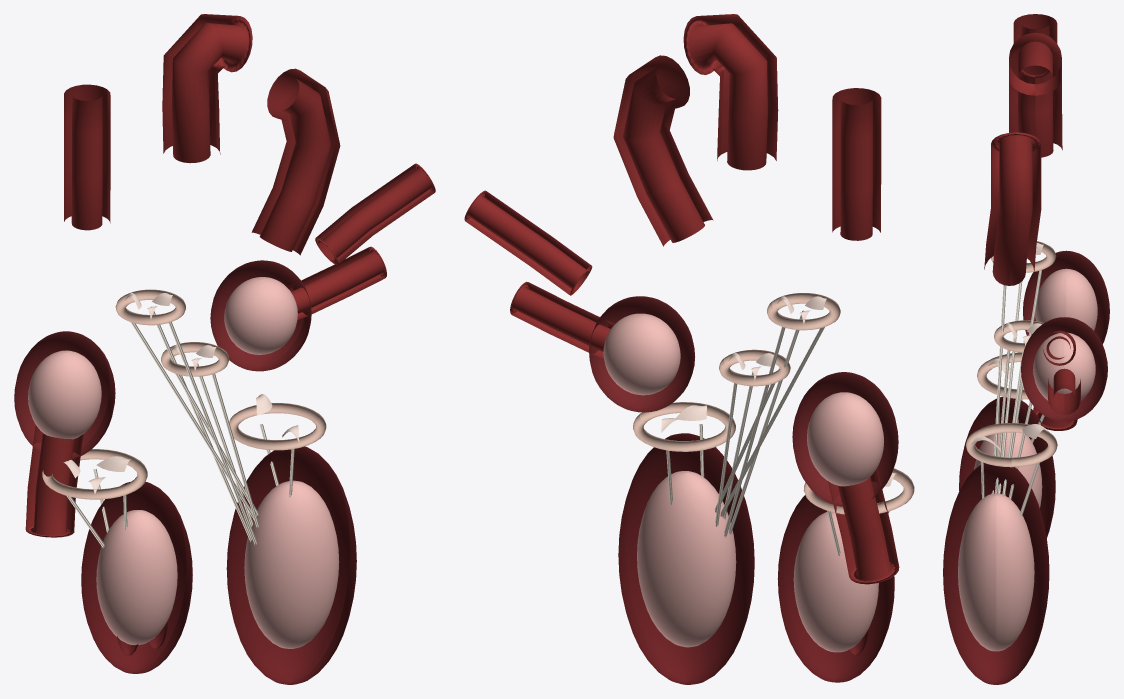
File: heart_segmented_mitral_leaky.glb
The picture shows the model from 3 angles, left to right: view 1: azimuth 30°, elevation 25°; view 2: azimuth 150°, elevation 25°; view 3: azimuth 270°, elevation 25°; orthographic projection. The views are drawn at different scales.
Visible parts, largest first — view 1: WallLV, WallRV, PulmonaryTrunk, WallRA, Aorta, WallLA, SVC, PulmonaryVeinL, IVC, PulmonaryVeinR, AnnulusMitral, AnnulusTricuspid (+6 smaller); view 2: WallLV, WallRV, PulmonaryTrunk, WallRA, Aorta, WallLA, SVC, PulmonaryVeinL, IVC, PulmonaryVeinR, AnnulusMitral, AnnulusAortic (+5 smaller); view 3: WallLV, PulmonaryTrunk, WallLA, Aorta, WallRA, WallRV, AnnulusMitral, PulmonaryVeinR, SVC, AnnulusTricuspid, AnnulusPulmonary, ChordaeAortic2 (+7 smaller).
Part boxes in pixels (x1,y1,x2,y2): WallLV: (226, 446, 356, 684); WallRV: (81, 482, 192, 673); PulmonaryTrunk: (251, 68, 340, 255); WallRA: (14, 331, 115, 458); Aorta: (162, 14, 252, 163); WallLA: (210, 260, 311, 371); SVC: (64, 84, 110, 230); PulmonaryVeinL: (315, 163, 435, 264); IVC: (25, 425, 83, 537); PulmonaryVeinR: (287, 246, 386, 320); AnnulusMitral: (229, 403, 326, 450); AnnulusTricuspid: (42, 449, 147, 499); WallLV: (618, 433, 754, 684); WallRV: (777, 495, 894, 682); PulmonaryTrunk: (613, 55, 713, 246); WallRA: (792, 372, 898, 506); Aorta: (683, 14, 778, 170); WallLA: (589, 296, 694, 412); SVC: (832, 88, 881, 240); PulmonaryVeinL: (464, 190, 592, 295); IVC: (828, 468, 899, 584); PulmonaryVeinR: (510, 281, 614, 358); AnnulusMitral: (633, 402, 735, 451); AnnulusAortic: (767, 293, 840, 330); WallLV: (943, 463, 1049, 684); PulmonaryTrunk: (984, 132, 1041, 285); WallLA: (1021, 317, 1107, 421); Aorta: (1009, 32, 1062, 157); WallRA: (1023, 250, 1109, 343); WallRV: (959, 397, 1055, 537); AnnulusMitral: (966, 423, 1057, 467); PulmonaryVeinR: (1048, 368, 1080, 415); SVC: (1013, 14, 1057, 43); AnnulusTricuspid: (977, 352, 1028, 399); AnnulusPulmonary: (994, 320, 1043, 352); ChordaeAortic2: (998, 281, 1022, 493).
Bounding box in the file's own units: 0.0906 × 0.1416 × 0.0345.
Materials: 9 (3 with a texture image).
